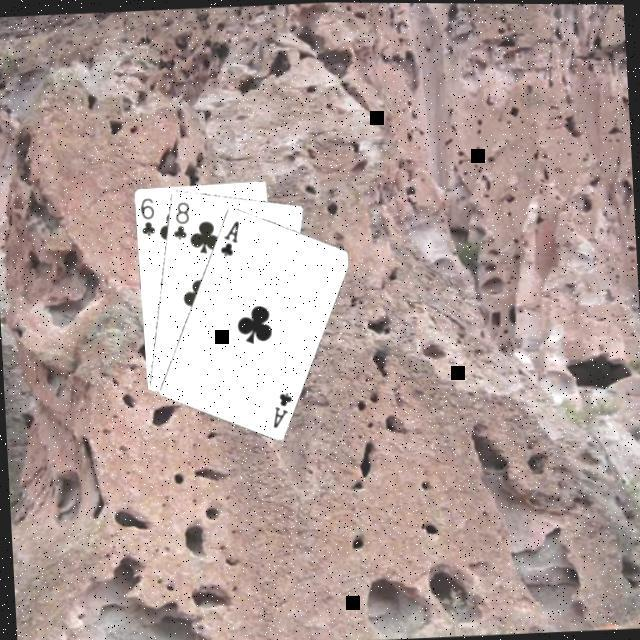6C: (134, 192, 156, 236)
8C: (166, 196, 191, 240)
AC: (214, 214, 242, 256), (266, 386, 294, 428)
